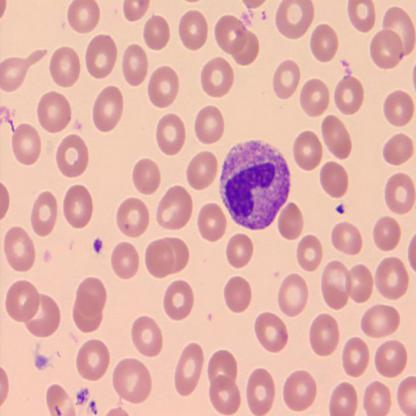Band Neutrophil: (215, 137, 292, 233)
